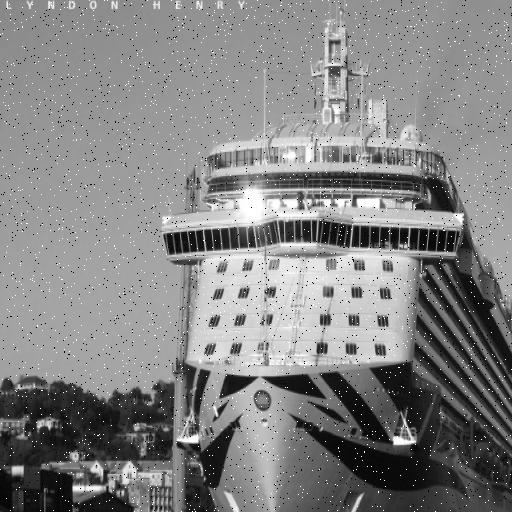cruises: (160, 15, 512, 512)
